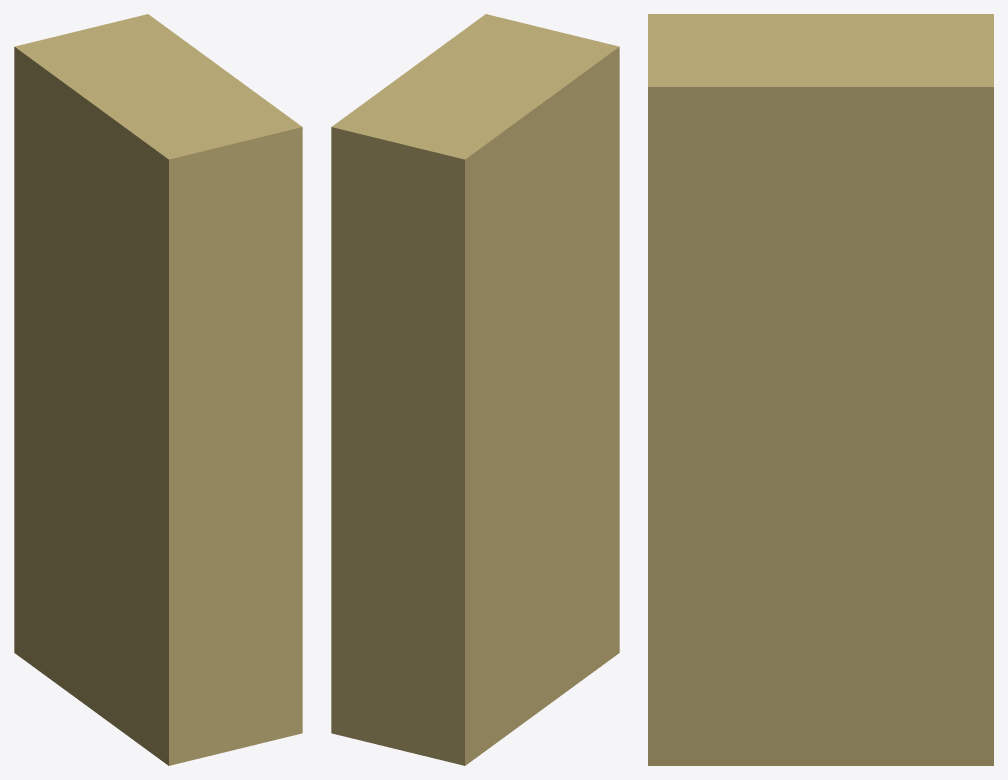
3 renders of one model, left to right at view 1: azimuth 30°, elevation 25°; view 2: azimuth 150°, elevation 25°; view 3: azimuth 270°, elevation 25°, orthographic. The views are drawn at different scales.
Parts seen in each view (by area): view 1: __delivery_mesh_6712; view 2: __delivery_mesh_6712; view 3: __delivery_mesh_6712.
Part boxes in pixels (x1,y1,x2,y2): __delivery_mesh_6712: (14, 14, 302, 765); __delivery_mesh_6712: (331, 14, 619, 765); __delivery_mesh_6712: (648, 14, 993, 765).
Size of the model in its own units: 0.045 by 0.195 by 0.09.
